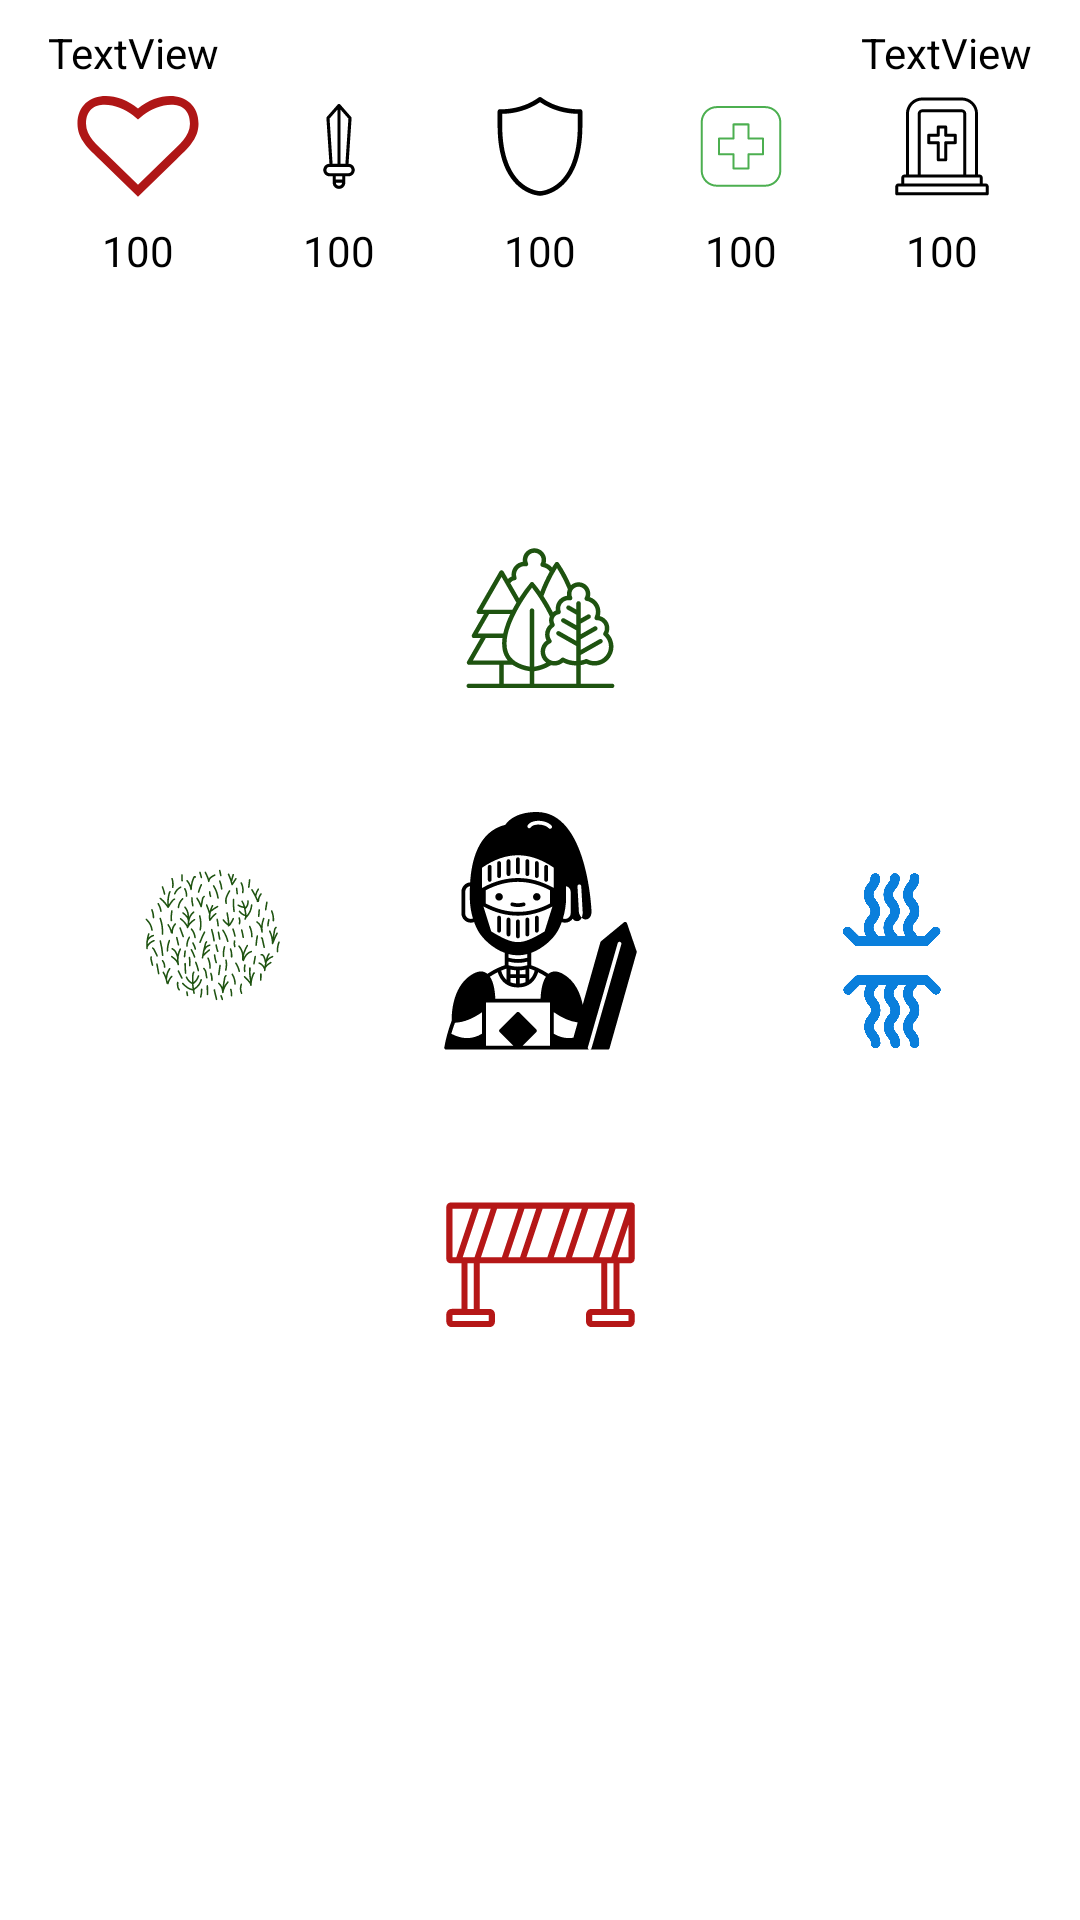

Locate icon controls on the screen. Image size 1080×1920, boxes as (x1, y1, x2, y2).
border: (446, 1202, 635, 1327)
bridge: (843, 873, 941, 1048)
forest: (466, 548, 615, 688)
knight: (444, 812, 637, 1050)
meadow: (145, 869, 280, 1001)
medical: (700, 106, 782, 187)
rip: (895, 97, 989, 196)
shield: (497, 97, 583, 196)
sword: (323, 104, 355, 189)
